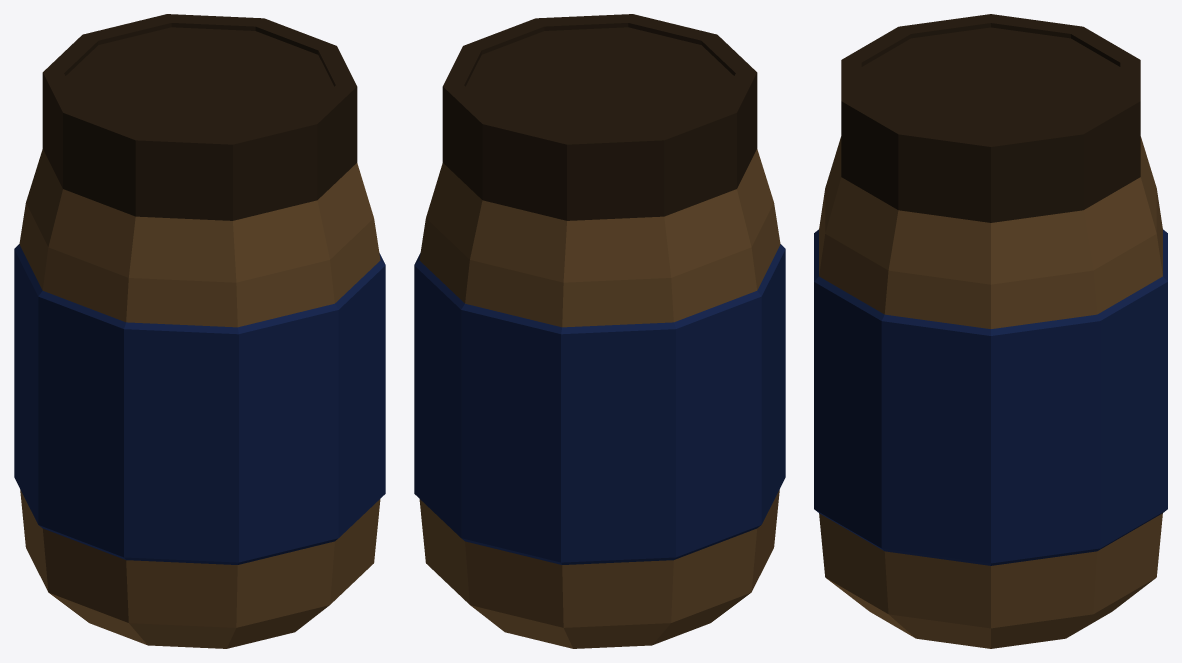
Rendered from PeanutButter_2.obj.
The picture shows the model from 3 angles, left to right: view 1: azimuth 30°, elevation 25°; view 2: azimuth 150°, elevation 25°; view 3: azimuth 270°, elevation 25°; orthographic projection.
Visible parts, largest first — view 1: PeanutButter_2_Cylinder.042; view 2: PeanutButter_2_Cylinder.042; view 3: PeanutButter_2_Cylinder.042.
Part boxes in pixels (x1,y1,x2,y2): PeanutButter_2_Cylinder.042: (14, 14, 385, 648); PeanutButter_2_Cylinder.042: (414, 14, 785, 648); PeanutButter_2_Cylinder.042: (814, 14, 1167, 648).
Bounding box in the file's own units: 0.4746 × 0.7243 × 0.4514.
